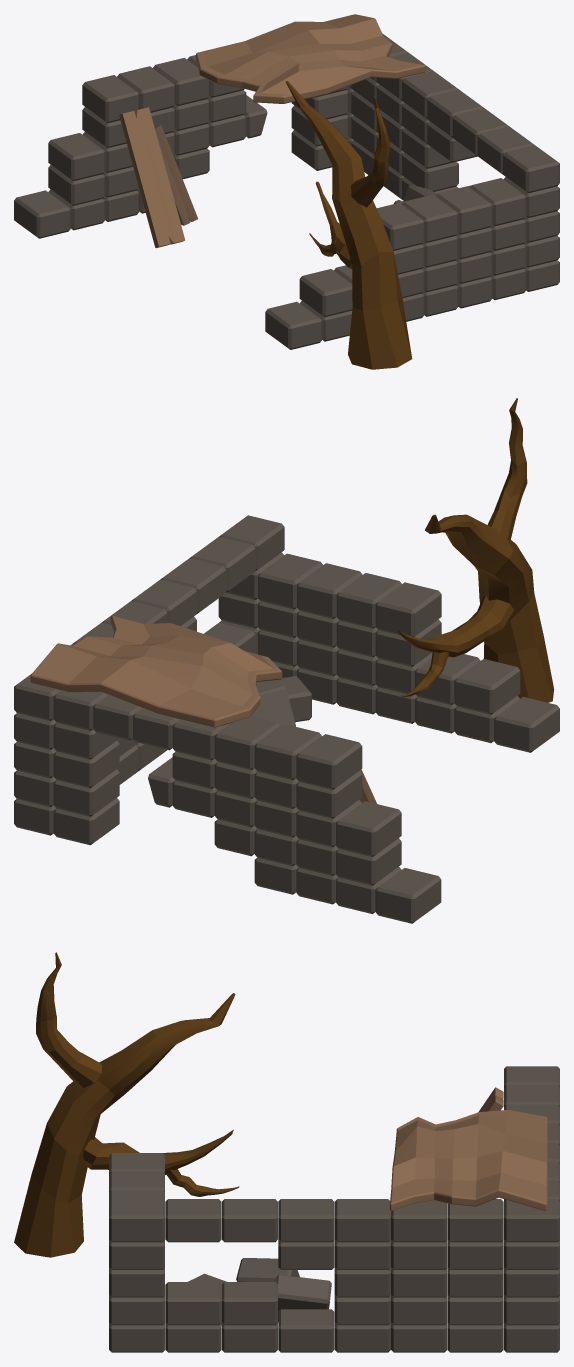
File: Ruins.fbx
3 renders of one model, top to bottom at view 1: azimuth 30°, elevation 25°; view 2: azimuth 150°, elevation 25°; view 3: azimuth 270°, elevation 25°, orthographic. The views are drawn at different scales.
Parts seen in each view (by area): view 1: polySurface603, polySurface391, polySurface580, polySurface477; view 2: polySurface603, polySurface391, polySurface580; view 3: polySurface603, polySurface580, polySurface391.
Part boxes in pixels (left/top/right/bottom): polySurface603: left=14, top=33, right=559, bottom=349; polySurface391: left=119, top=14, right=425, bottom=248; polySurface580: left=286, top=81, right=412, bottom=369; polySurface477: left=154, top=125, right=197, bottom=225; polySurface603: left=14, top=515, right=559, bottom=923; polySurface391: left=30, top=615, right=376, bottom=803; polySurface580: left=398, top=398, right=554, bottom=702; polySurface603: left=109, top=1066, right=559, bottom=1352; polySurface580: left=14, top=952, right=239, bottom=1257; polySurface391: left=390, top=1087, right=547, bottom=1211.
Bounding box in the file's own units: 6.45 × 4.63 × 7.89.
